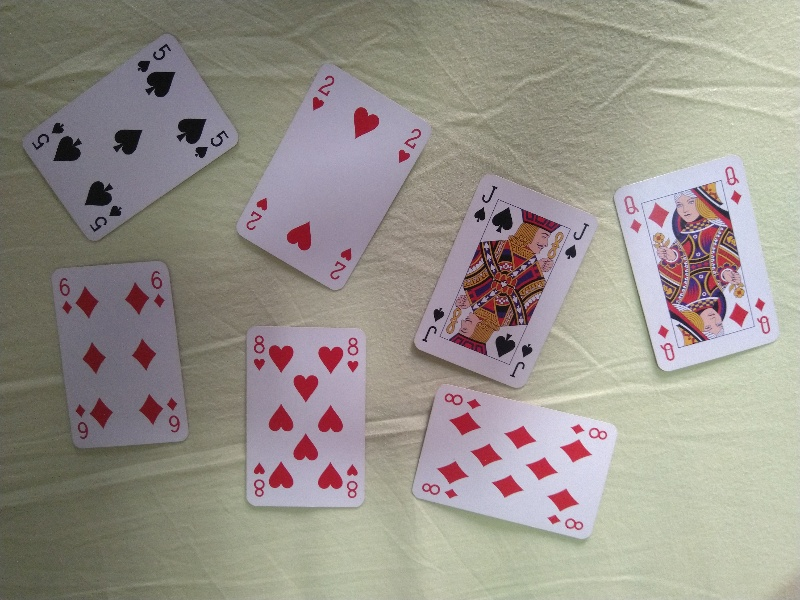2h: (308, 69, 336, 116), (394, 127, 424, 166), (241, 195, 272, 231), (327, 247, 354, 282)
5s: (87, 203, 126, 235), (193, 129, 231, 161), (30, 118, 66, 151), (136, 42, 172, 74)
6d: (147, 266, 168, 309), (164, 394, 184, 436), (71, 400, 90, 442), (57, 274, 74, 317)
8d: (418, 480, 462, 501), (444, 389, 485, 411), (570, 421, 610, 443), (546, 513, 585, 533)
8h: (343, 333, 362, 374), (344, 459, 360, 501), (250, 334, 267, 373), (251, 459, 268, 498)
Js: (565, 220, 591, 263), (419, 304, 445, 345), (473, 182, 498, 223), (509, 343, 534, 381)
Qd: (652, 324, 678, 364), (622, 190, 644, 235), (752, 294, 775, 337), (722, 163, 745, 205)
